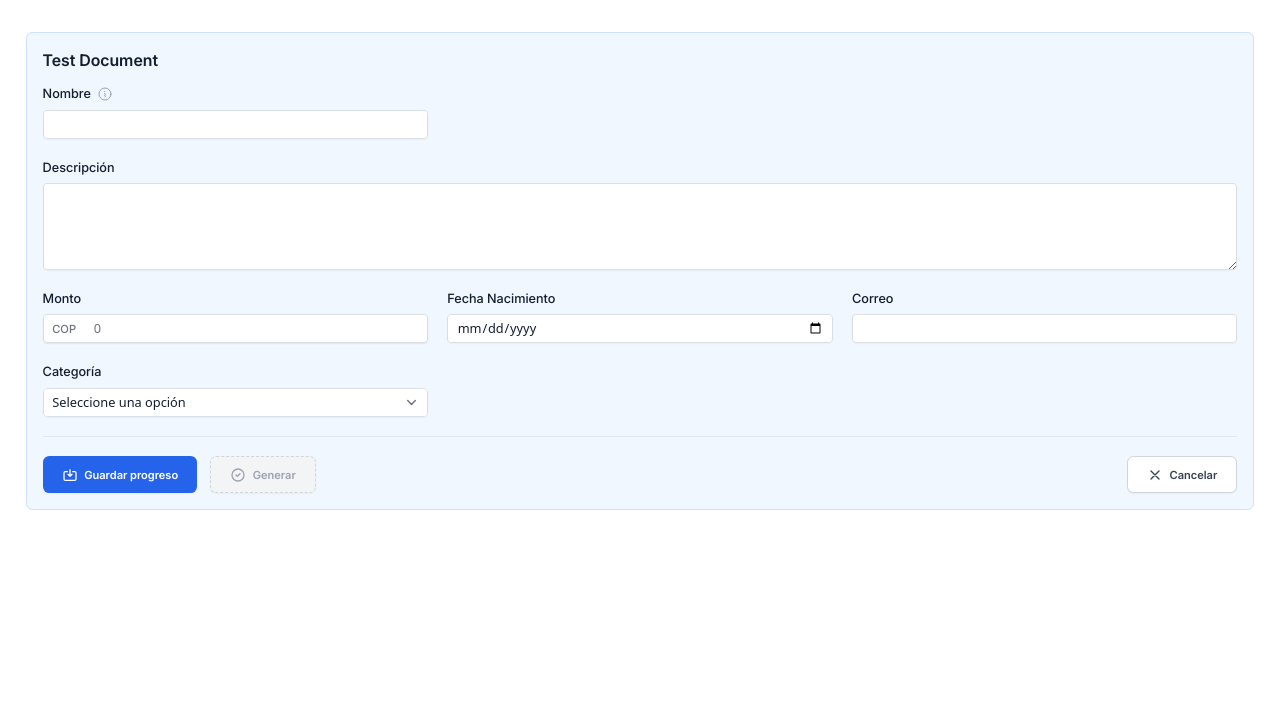
Test case: DocumentForm.vue › validation error appears for invalid email
Type "not-an-email" into the field labelled "Correo".
click(1045, 329); type("not-an-email")  # box [852, 314, 1237, 343]
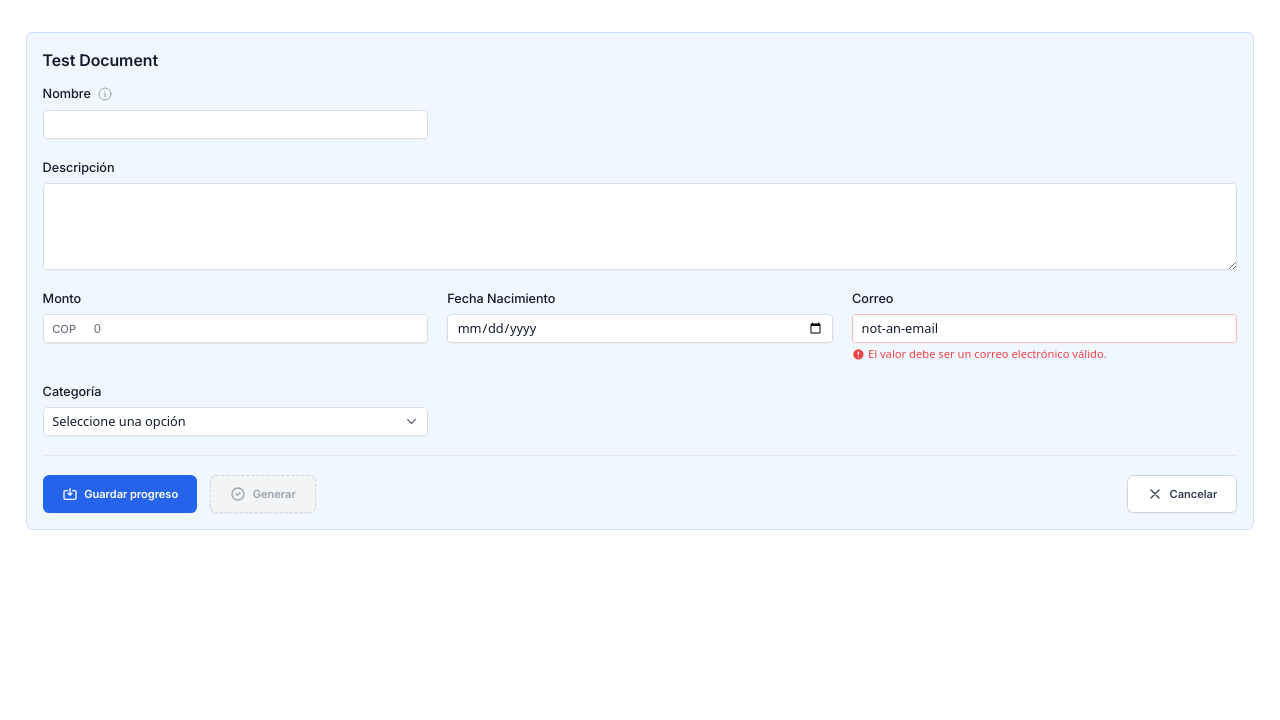
Now the text "correo electrónico válido" is shown, box [868, 346, 1107, 362]
